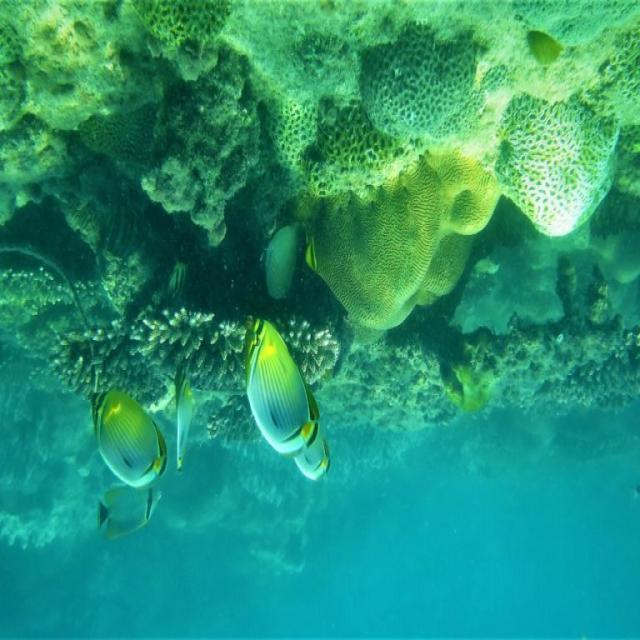ButterflyFish: (230, 310, 332, 456), (78, 378, 180, 488), (291, 424, 337, 492)
